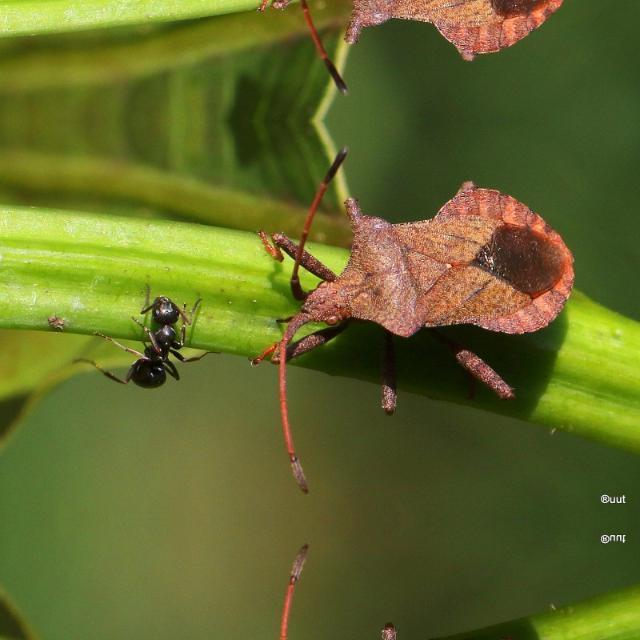Formica: (116, 286, 194, 388)
